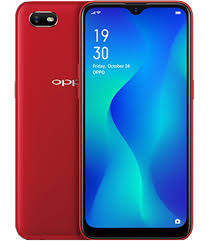oppo: (75, 1, 192, 240), (13, 1, 84, 240)
